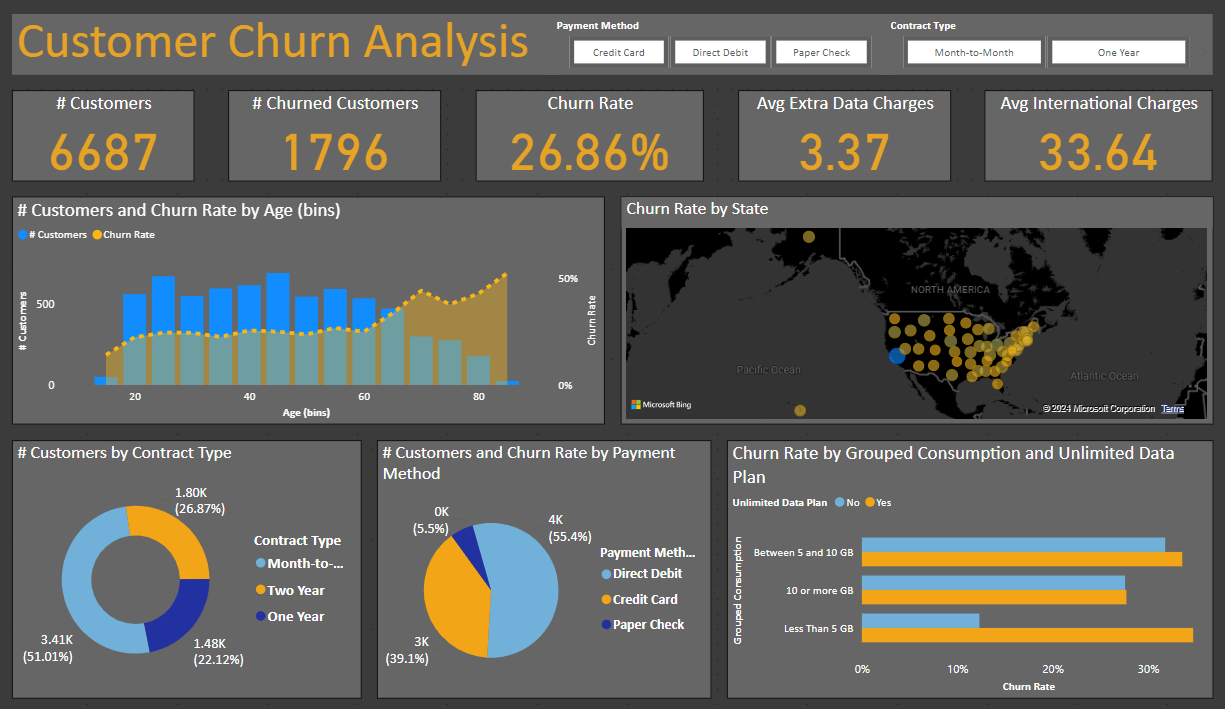

This screenshot's page, from the dashboard's own definition file:
{"tool":"powerbi","page":{"name":"Overview","canvas":[1297,750],"ordinal":0},"visuals":[{"type":"textbox","box":[16,16,576,64],"z":0},{"type":"slicer","fields":{"Values":["Databel - Data.Payment Method"]},"box":[576,16,368,64],"z":1000},{"type":"slicer","fields":{"Values":["Databel - Data.Contract Type"]},"box":[928,16,352,64],"z":2000},{"type":"card","title":"# Customers","fields":{"Values":["_Calculations.# Customers"]},"box":[16,96,192,96],"z":3000},{"type":"card","title":"Avg International Charges","fields":{"Values":["_Calculations.Avg Extra International Charges"]},"box":[1040,96,240,96],"z":4000},{"type":"card","title":"# Churned Customers","fields":{"Values":["_Calculations.# Churned Customers"]},"box":[244,96,224,96],"z":5000},{"type":"card","title":"Churn Rate","fields":{"Values":["_Calculations.Churn Rate"]},"box":[504,96,240,96],"z":6000},{"type":"card","title":"Avg Extra Data Charges","fields":{"Values":["_Calculations.Avg Extra Data Charges"]},"box":[780,96,224,96],"z":7000},{"type":"clusteredBarChart","fields":{"Y":["_Calculations.Churn Rate"],"Category":["Databel - Data.Grouped Consumption"],"Series":["Databel - Data.Unlimited Data Plan"]},"box":[768,464,512,272],"z":8000},{"type":"donutChart","fields":{"Category":["Databel - Data.Contract Type"],"Y":["_Calculations.# Customers"]},"box":[16,464,368,272],"z":9000},{"type":"pieChart","fields":{"Y":["_Calculations.# Customers"],"Category":["Databel - Data.Payment Method"]},"box":[400,464,352,272],"z":10000},{"type":"map","fields":{"Size":["_Calculations.Churn Rate"],"Category":["Databel - Data.State"]},"box":[656,208,624,240],"z":11000},{"type":"lineClusteredColumnComboChart","fields":{"Y":["_Calculations.# Customers"],"Category":["Databel - Data.Age (bins)"],"Y2":["_Calculations.Churn Rate"]},"box":[16,208,624,240],"z":12000}]}

Visuals, with their boxes in screenshot pixels (x1, y1, x2, y2), scaled from the page's 1297x750 canvas onto the 1225x709 screenshot:
textbox: left=15, top=15, right=559, bottom=76
slicer - Databel - Data.Payment Method: left=544, top=15, right=892, bottom=76
slicer - Databel - Data.Contract Type: left=876, top=15, right=1209, bottom=76
"# Customers" card: left=15, top=91, right=196, bottom=182
"Avg International Charges" card: left=982, top=91, right=1209, bottom=182
"# Churned Customers" card: left=230, top=91, right=442, bottom=182
"Churn Rate" card: left=476, top=91, right=703, bottom=182
"Avg Extra Data Charges" card: left=737, top=91, right=948, bottom=182
clusteredBarChart - _Calculations.Churn Rate x Databel - Data.Grouped Consumption: left=725, top=439, right=1209, bottom=696
donutChart - Databel - Data.Contract Type x _Calculations.# Customers: left=15, top=439, right=363, bottom=696
pieChart - _Calculations.# Customers x Databel - Data.Payment Method: left=378, top=439, right=710, bottom=696
map - _Calculations.Churn Rate x Databel - Data.State: left=620, top=197, right=1209, bottom=424
lineClusteredColumnComboChart - _Calculations.# Customers x Databel - Data.Age (bins): left=15, top=197, right=604, bottom=424
